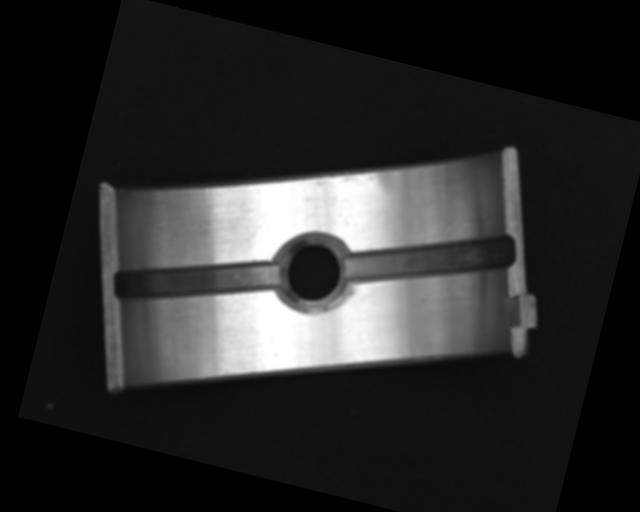gap: (342, 201, 514, 318), (108, 226, 281, 334)
hole: (265, 223, 359, 323)
